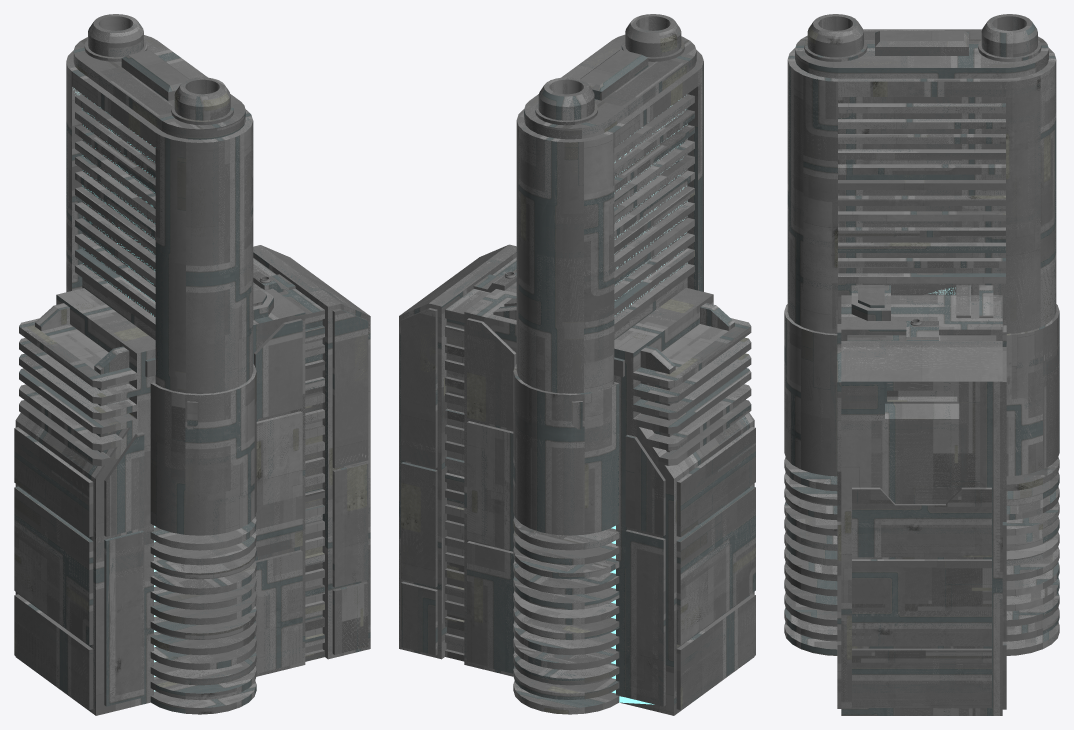
File: Building9.fbx
The picture shows the model from 3 angles, left to right: view 1: azimuth 30°, elevation 25°; view 2: azimuth 150°, elevation 25°; view 3: azimuth 270°, elevation 25°; orthographic projection.
Parts seen in each view (by area): view 1: Building_vi_7; view 2: Building_vi_7; view 3: Building_vi_7.
Boxes of the visible parts, x1,y1,x2,y2 form: Building_vi_7: (14,14,370,715); Building_vi_7: (399,14,755,715); Building_vi_7: (784,14,1059,715).
Bounding box in the file's own units: 40.18 × 82.43 × 33.81.
Materials: 2 (1 with a texture image).
